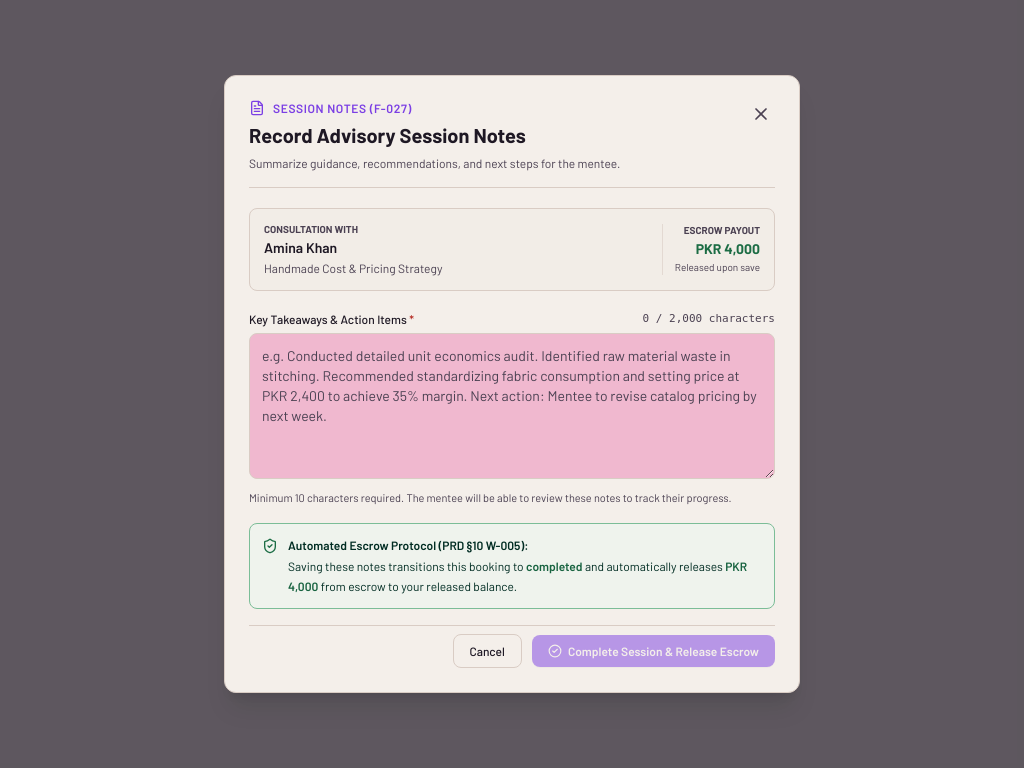
Test: SessionNotesModal (Task 43 / F-027) › displays error message if submission fails
Step 1. Replace the text in the text box with test id "session-notes-textarea" with "Comprehensive advisory notes for pricing review." → (512, 406), box [249, 333, 775, 479]
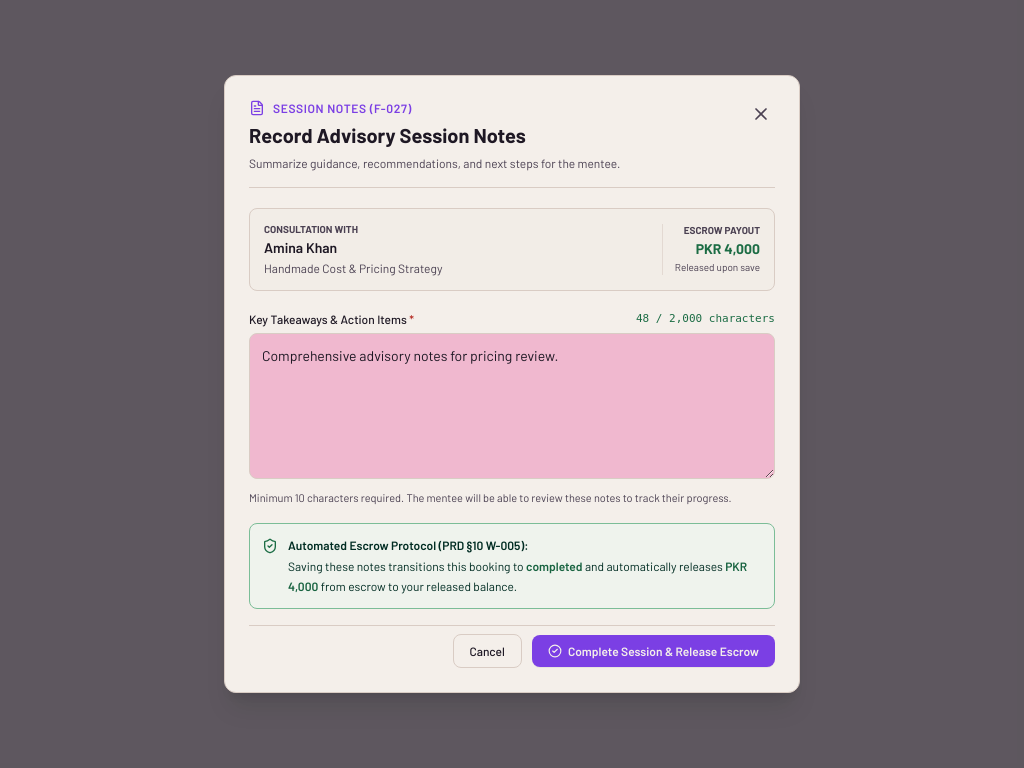
Step 2. Click the button with test id "submit-session-notes-btn" → (653, 652), box [532, 636, 775, 668]
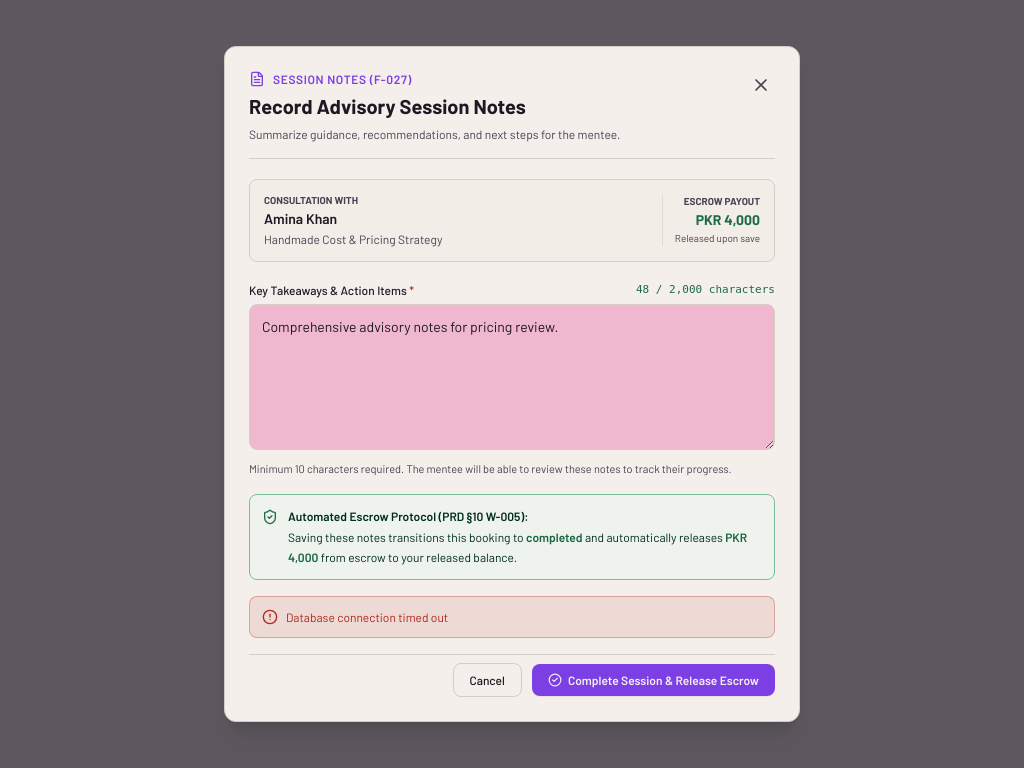
Check: the text "Database connection timed out" is shown, box [286, 610, 448, 626]
